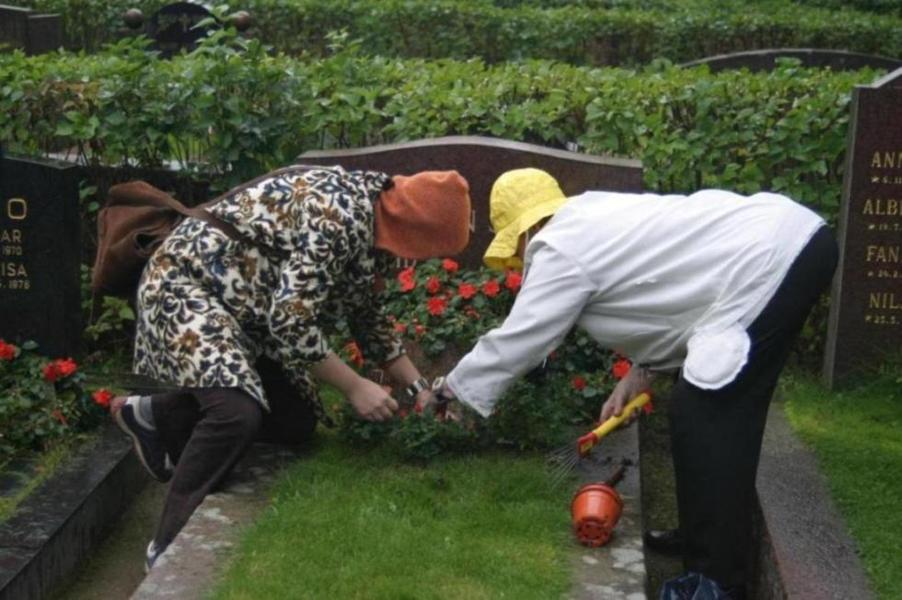person: (425, 165, 837, 596)
